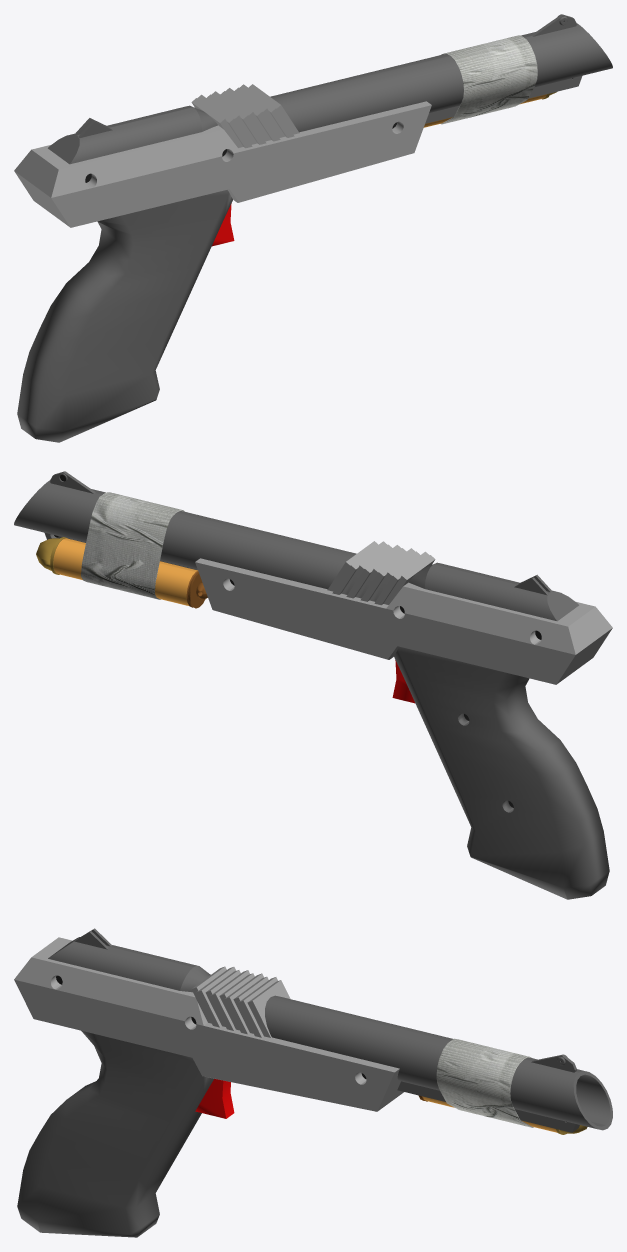
Rendered from Pistolet.fbx.
The picture shows the model from 3 angles, top to bottom: view 1: azimuth 30°, elevation 25°; view 2: azimuth 150°, elevation 25°; view 3: azimuth 330°, elevation 25°; orthographic projection.
Visible parts, largest first — view 1: Пистолет; view 2: Пистолет; view 3: Пистолет, Курок.
Part boxes in pixels (left/top/right/bottom): Пистолет: left=14, top=14, right=612, bottom=442; Пистолет: left=14, top=471, right=612, bottom=899; Пистолет: left=14, top=928, right=612, bottom=1237; Курок: left=195, top=1079, right=234, bottom=1118.
Size of the model in its own units: 206 by 104 by 25.2.
8 materials, 1 textured.
